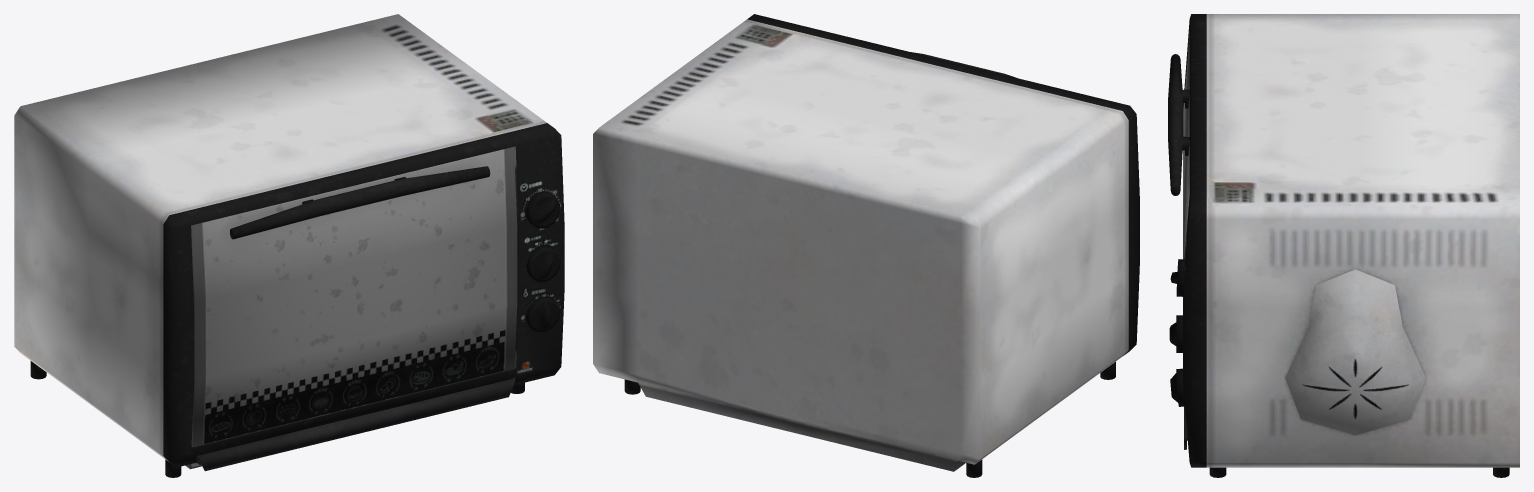
The model's file is S_OvenKtch_0_001.fbx.
The picture shows the model from 3 angles, left to right: view 1: azimuth 30°, elevation 25°; view 2: azimuth 150°, elevation 25°; view 3: azimuth 270°, elevation 25°; orthographic projection. The views are drawn at different scales.
Parts seen in each view (by area): view 1: S_OvenKtch_0_001, S_OvenKtch_0_001_11; view 2: S_OvenKtch_0_001; view 3: S_OvenKtch_0_001, S_OvenKtch_0_001_11.
Boxes of the visible parts, x1,y1,x2,y2 form: S_OvenKtch_0_001: [14, 14, 564, 477]; S_OvenKtch_0_001_11: [230, 166, 490, 239]; S_OvenKtch_0_001: [593, 14, 1139, 477]; S_OvenKtch_0_001: [1169, 14, 1519, 477]; S_OvenKtch_0_001_11: [1168, 54, 1189, 195].
Size of the model in its own units: 20.05 by 14.12 by 12.37.
